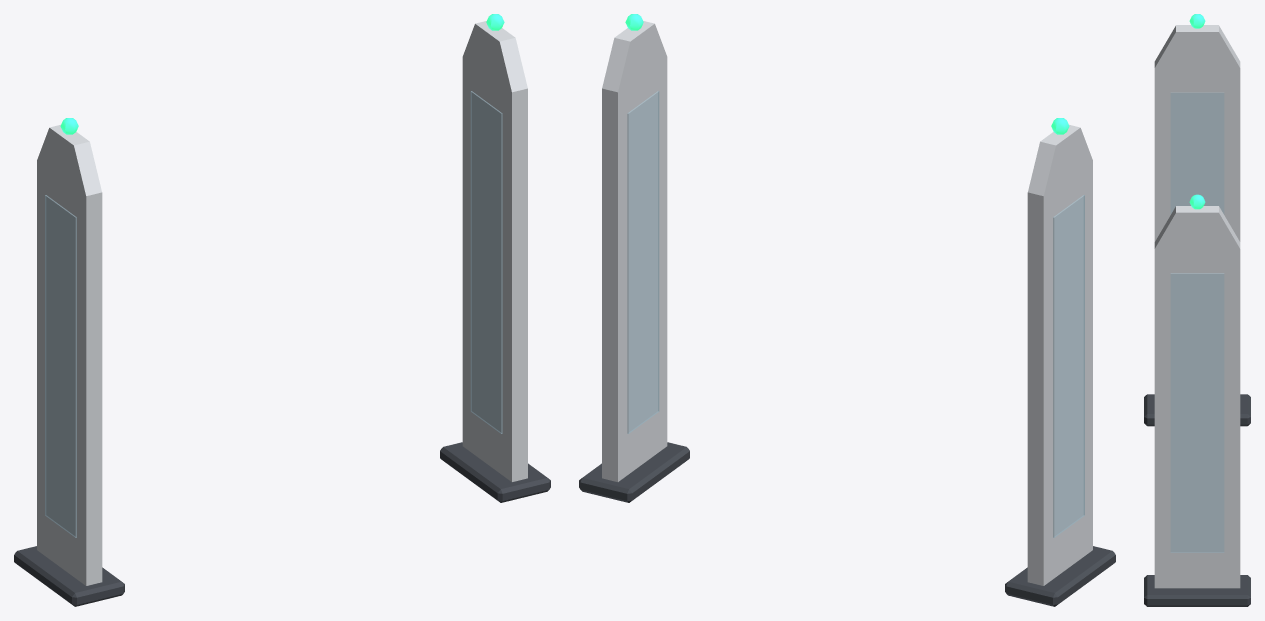
File: security_gate.glb
3 views of the same model, side by side, from view 1: azimuth 30°, elevation 25°; view 2: azimuth 150°, elevation 25°; view 3: azimuth 270°, elevation 25° (orthographic). The views are drawn at different scales.
Visible parts, largest first — view 1: security_gate; view 2: security_gate; view 3: security_gate.
Boxes of the visible parts, bbox=[...] form: security_gate: bbox=[14, 14, 550, 606]; security_gate: bbox=[579, 14, 1115, 606]; security_gate: bbox=[1144, 14, 1250, 606].
Size of the model in its own units: 1.8 by 1.66 by 0.4.
